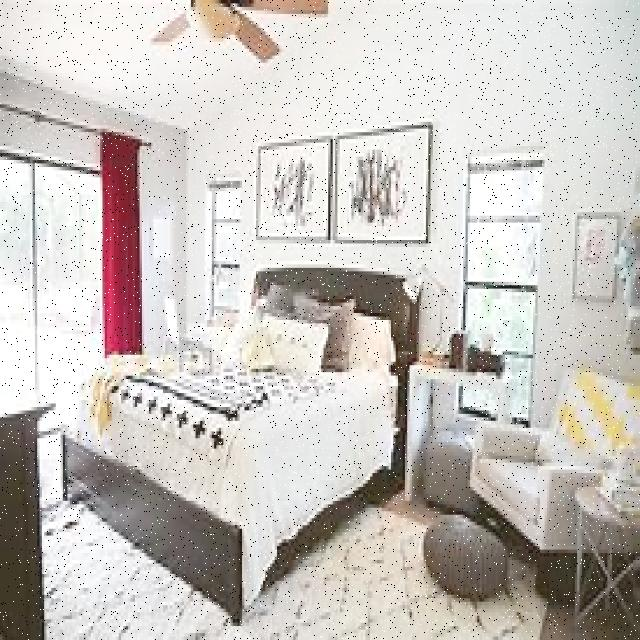bed: (71, 270, 418, 492)
